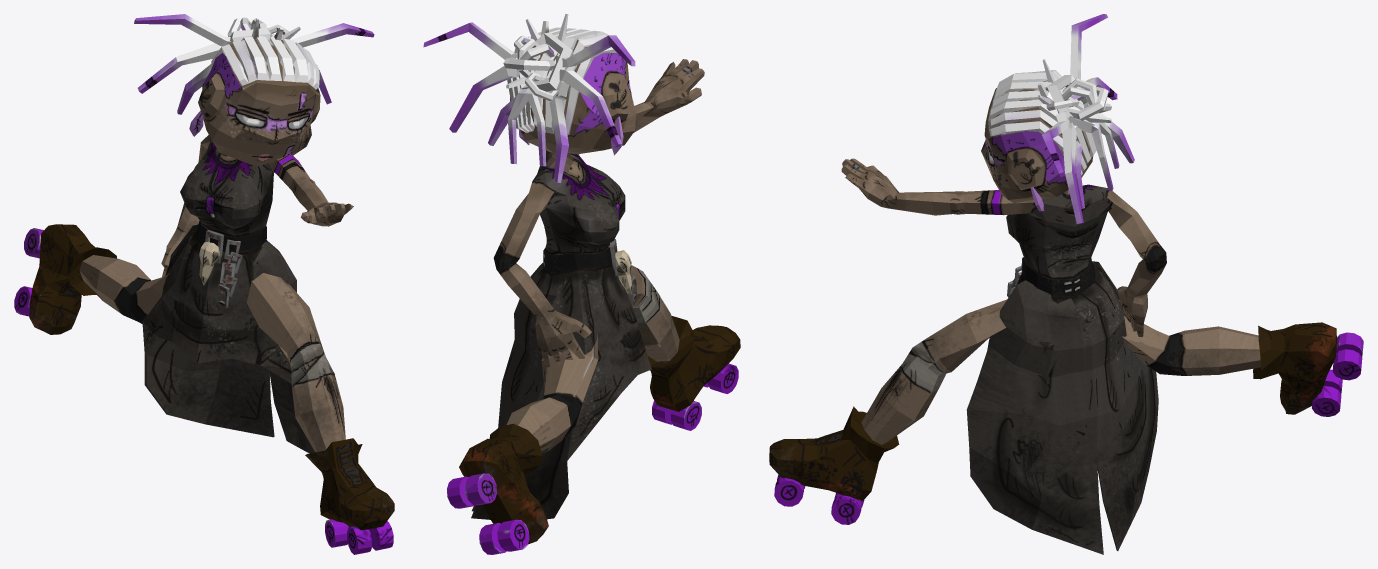
Rendered from bruja_000031.obj.
3 renders of one model, left to right at view 1: azimuth 30°, elevation 25°; view 2: azimuth 150°, elevation 25°; view 3: azimuth 270°, elevation 25°, orthographic. The views are drawn at different scales.
Parts seen in each view (by area): view 1: Bruja_Plane.001; view 2: Bruja_Plane.001; view 3: Bruja_Plane.001.
Boxes of the visible parts, x1,y1,x2,y2 form: Bruja_Plane.001: (14, 14, 394, 554); Bruja_Plane.001: (423, 14, 740, 554); Bruja_Plane.001: (769, 14, 1363, 554).
Bounding box in the file's own units: 7.53 × 14.62 × 16.71.
